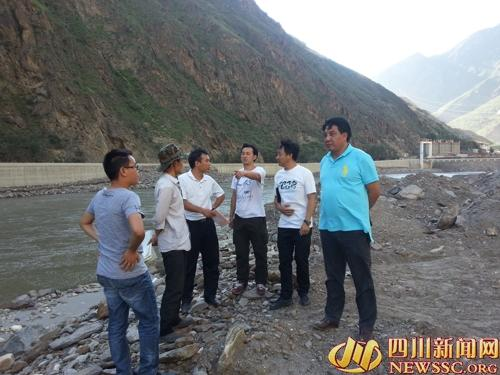boots: (313, 318, 339, 330), (269, 296, 293, 309), (174, 315, 193, 329), (231, 281, 247, 294), (357, 333, 373, 345), (204, 297, 219, 308), (299, 294, 311, 306), (181, 302, 192, 315), (256, 283, 266, 295)
person: (78, 147, 161, 374), (312, 116, 381, 342), (177, 148, 229, 316), (149, 142, 193, 337), (268, 137, 317, 309), (228, 142, 268, 295)
